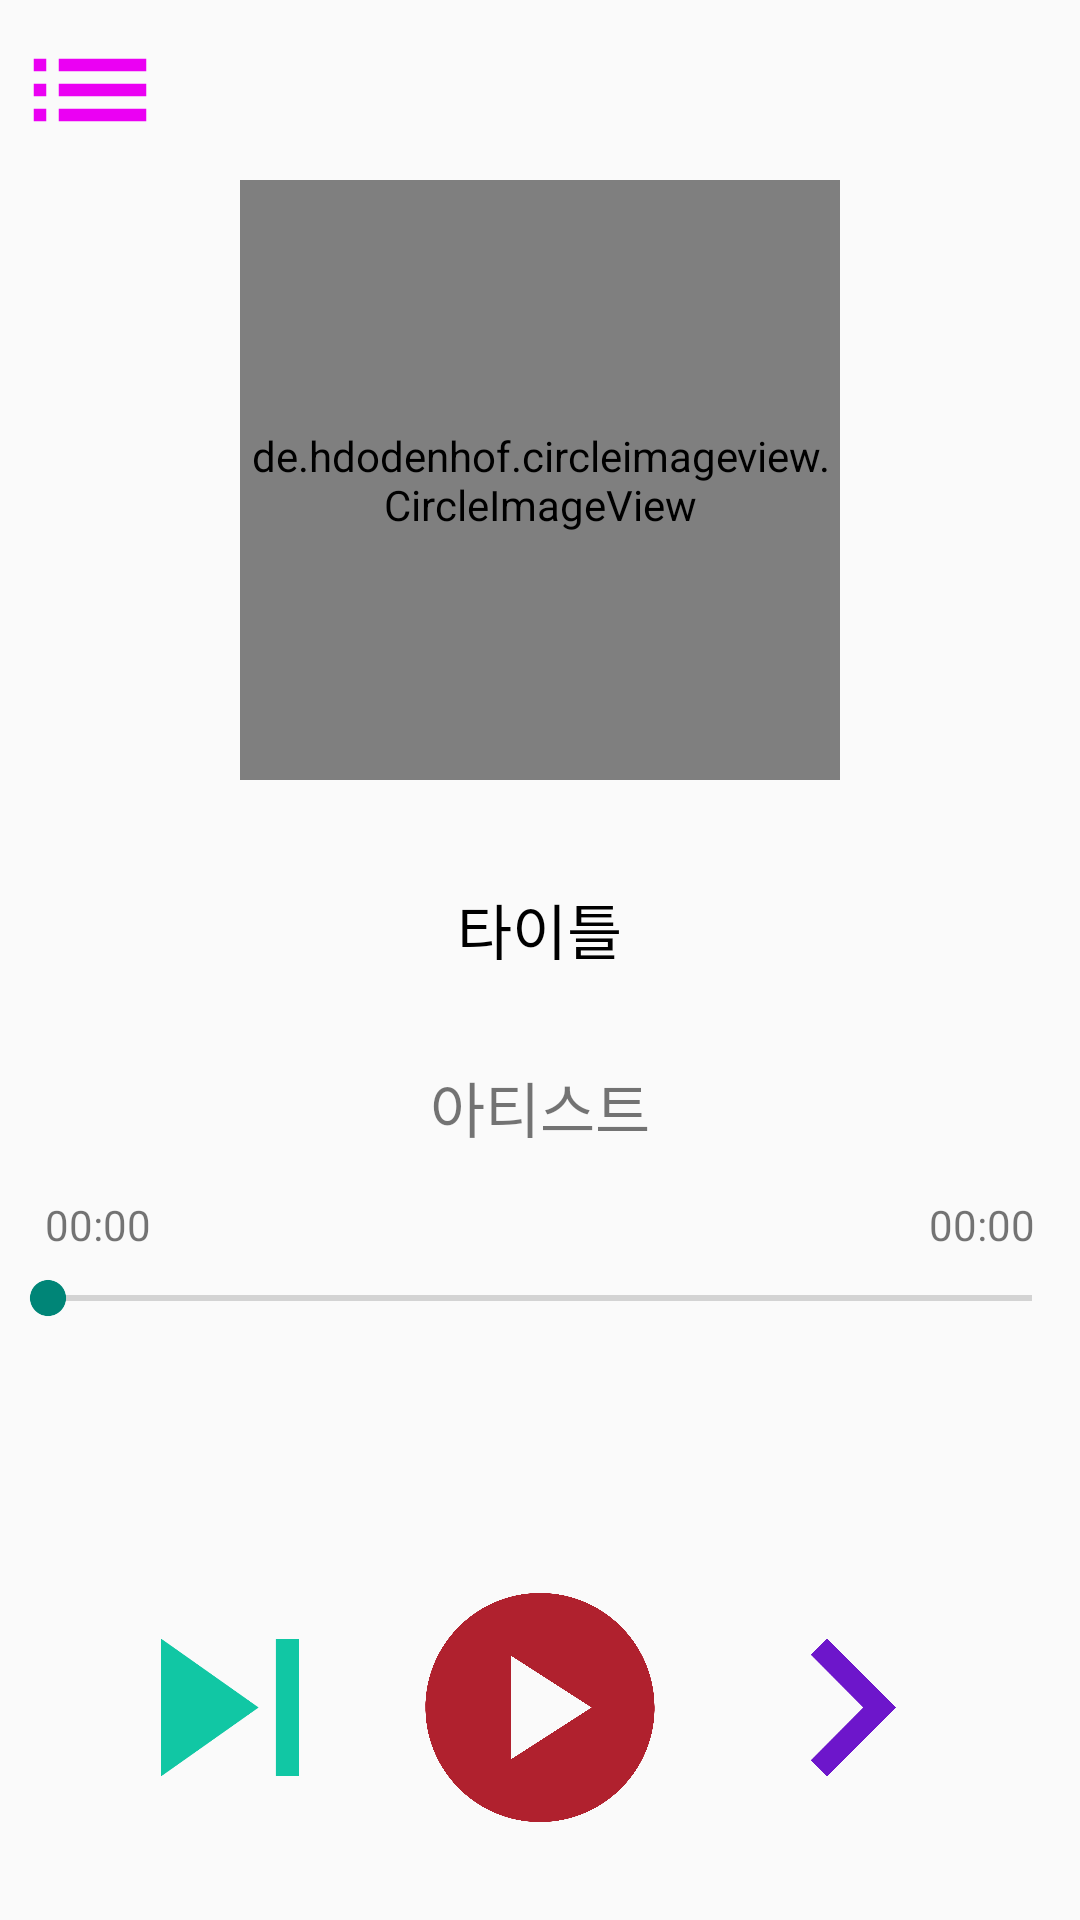

Point at icon controls on the screen. Image size 1080 × 1920, points as (x,y).
list: (90,90)
next: (853,1707)
play: (540,1707)
skip next: (230,1707)
